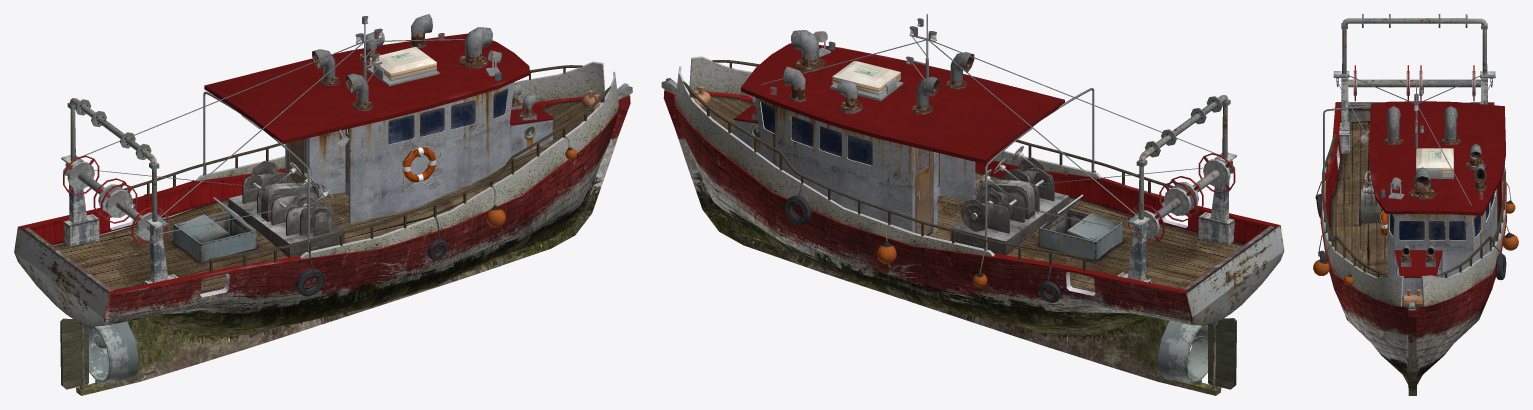
Rendered from fishing_boat.glb.
3 renders of one model, left to right at view 1: azimuth 30°, elevation 25°; view 2: azimuth 150°, elevation 25°; view 3: azimuth 270°, elevation 25°, orthographic. The views are drawn at different scales.
Visible parts, largest first — view 1: bateau_peche_bateau_peche_coque_0, bateau_peche_chalut_0, bateau_peche_machinerie_0, bateau_peche_helice_0, bateau_peche_aerations_0, bateau_peche_rembarde_0, bateau_peche_metal_0, bateau_peche_accessoires_0, bateau_peche_pneu_0, bateau_peche_bouee_sauvetage_0, lumieres_eclairage_0; view 2: bateau_peche_bateau_peche_coque_0, bateau_peche_chalut_0, bateau_peche_machinerie_0, bateau_peche_helice_0, bateau_peche_aerations_0, bateau_peche_rembarde_0, bateau_peche_metal_0, bateau_peche_accessoires_0, bateau_peche_pneu_0, lumieres_eclairage_0, bateau_peche_bouee_0; view 3: bateau_peche_bateau_peche_coque_0, bateau_peche_chalut_0, bateau_peche_aerations_0, bateau_peche_rembarde_0, bateau_peche_accessoires_0, bateau_peche_metal_0, bateau_peche_bouee_0, bateau_peche_machinerie_0, lumieres_eclairage_0, bateau_peche_pneu_0, bateau_peche_bouee_sauvetage_0.
Boxes of the visible parts, box(x1,y1,x2,y2) form: bateau_peche_bateau_peche_coque_0: box(14, 33, 630, 395); bateau_peche_chalut_0: box(61, 98, 178, 284); bateau_peche_machinerie_0: box(228, 160, 344, 257); bateau_peche_helice_0: box(60, 318, 138, 389); bateau_peche_aerations_0: box(312, 14, 536, 120); bateau_peche_rembarde_0: box(123, 65, 611, 272); bateau_peche_metal_0: box(82, 16, 465, 252); bateau_peche_accessoires_0: box(367, 47, 632, 112); bateau_peche_pneu_0: box(144, 194, 447, 296); bateau_peche_bouee_sauvetage_0: box(402, 146, 441, 191); lumieres_eclairage_0: box(241, 16, 501, 147); bateau_peche_bateau_peche_coque_0: box(663, 43, 1284, 395); bateau_peche_chalut_0: box(1117, 95, 1236, 283); bateau_peche_machinerie_0: box(950, 146, 1068, 255); bateau_peche_helice_0: box(1158, 318, 1236, 389); bateau_peche_aerations_0: box(751, 30, 974, 120); bateau_peche_rembarde_0: box(683, 60, 1173, 271); bateau_peche_metal_0: box(761, 14, 1217, 250); bateau_peche_accessoires_0: box(661, 61, 903, 107); bateau_peche_pneu_0: box(784, 170, 1095, 302); lumieres_eclairage_0: box(770, 18, 1032, 141); bateau_peche_bouee_0: box(876, 223, 987, 287); bateau_peche_bateau_peche_coque_0: box(1320, 101, 1506, 395); bateau_peche_chalut_0: box(1333, 14, 1495, 153); bateau_peche_aerations_0: box(1384, 106, 1486, 266); bateau_peche_rembarde_0: box(1322, 134, 1505, 277); bateau_peche_accessoires_0: box(1403, 148, 1453, 310); bateau_peche_metal_0: box(1323, 73, 1504, 205); bateau_peche_bouee_0: box(1313, 181, 1518, 285); bateau_peche_machinerie_0: box(1360, 170, 1387, 223); lumieres_eclairage_0: box(1360, 86, 1483, 199); bateau_peche_pneu_0: box(1315, 172, 1506, 280); bateau_peche_bouee_sauvetage_0: box(1377, 203, 1387, 243).
Bounding box in the file's own units: 1314 × 675 × 480.
12 materials, 12 textured.
